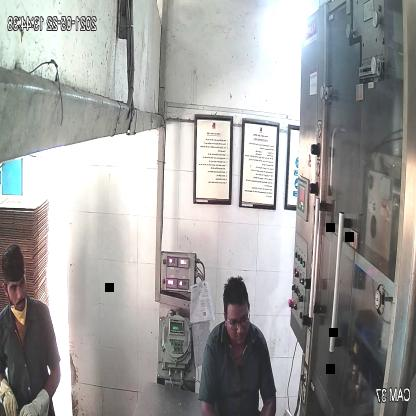goggles: (224, 308, 252, 333)
no_goggles: (6, 274, 29, 296)
